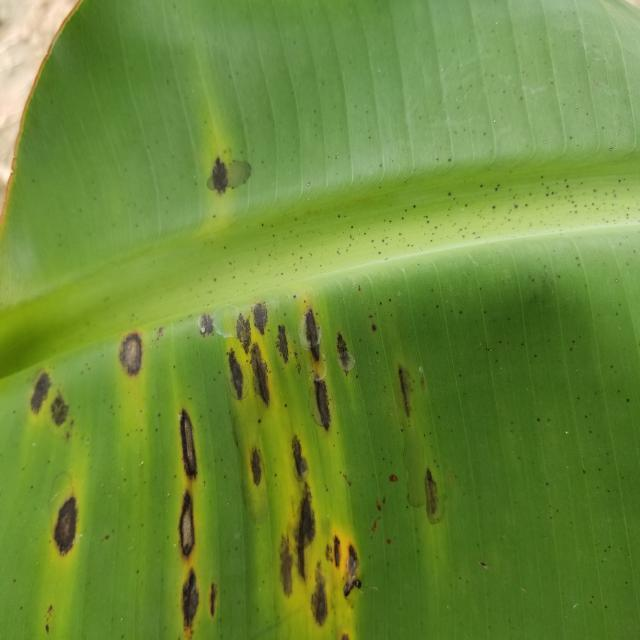Early_rust: (9, 299, 453, 640), (172, 146, 254, 201)
